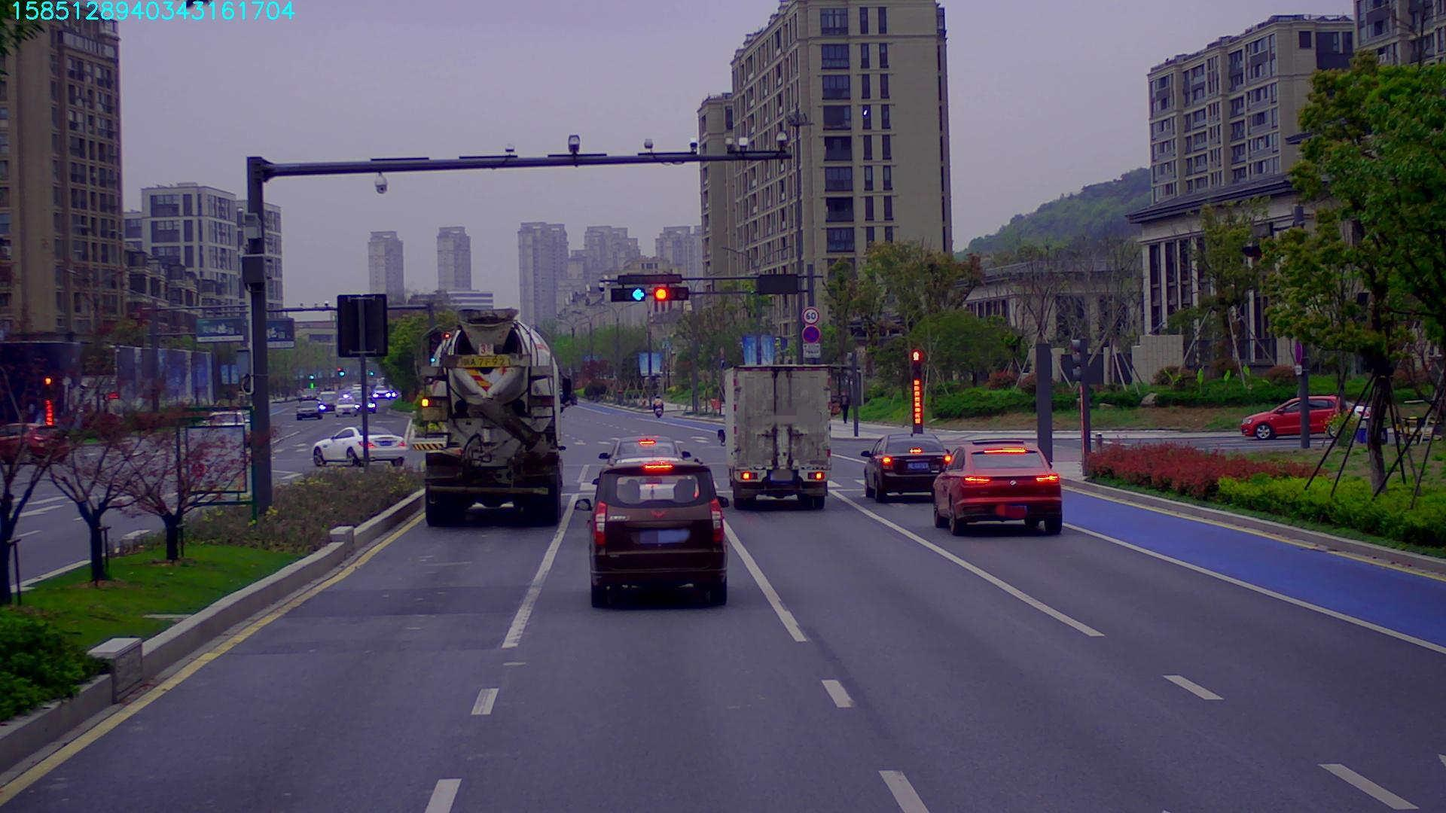green: (605, 286, 648, 300)
red: (653, 286, 691, 304)
